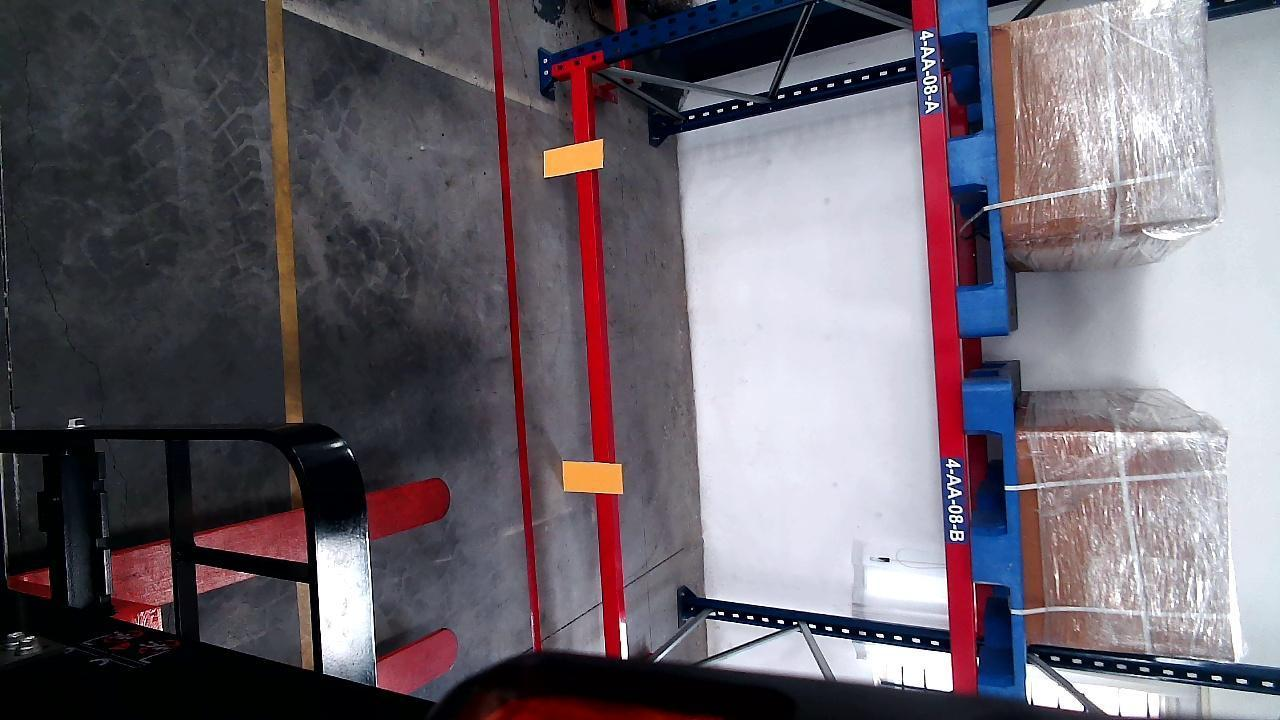h_rack: (914, 0, 974, 689), (572, 55, 624, 661)
orange_strip: (542, 139, 603, 177), (563, 460, 621, 494)
red_line: (488, 0, 541, 644)
small_pallet: (967, 390, 1026, 686)
yellow_line: (267, 1, 304, 423)
